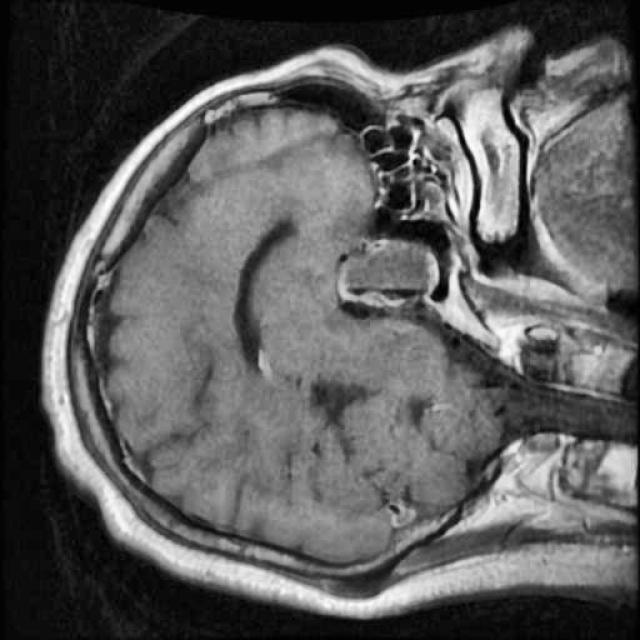Tumor: (330, 225, 446, 325)
